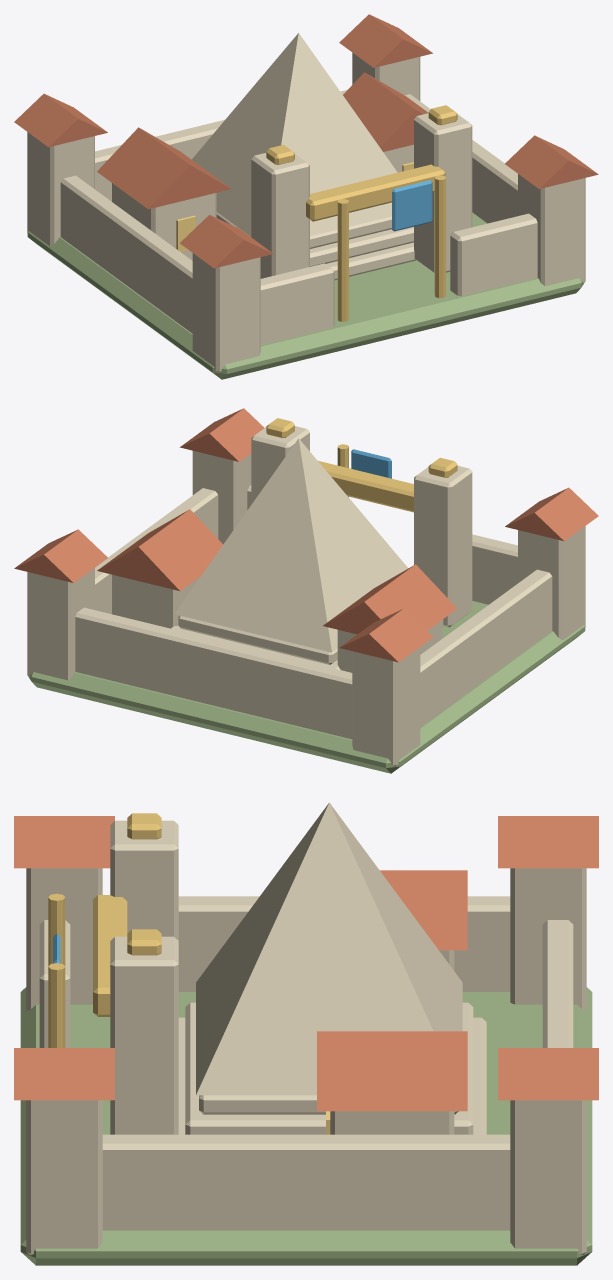
Rendered from CityEgyptian.fbx.
3 renders of one model, top to bottom at view 1: azimuth 30°, elevation 25°; view 2: azimuth 150°, elevation 25°; view 3: azimuth 270°, elevation 25°, orthographic. The views are drawn at different scales.
Visible parts, largest first — view 1: CityEgyptian; view 2: CityEgyptian; view 3: CityEgyptian.
Part boxes in pixels (<box>): CityEgyptian: <box>14,14,598,379</box>; CityEgyptian: <box>14,408,598,773</box>; CityEgyptian: <box>14,802,598,1265</box>.
Size of the model in its own units: 3.41 by 1.95 by 3.07.
